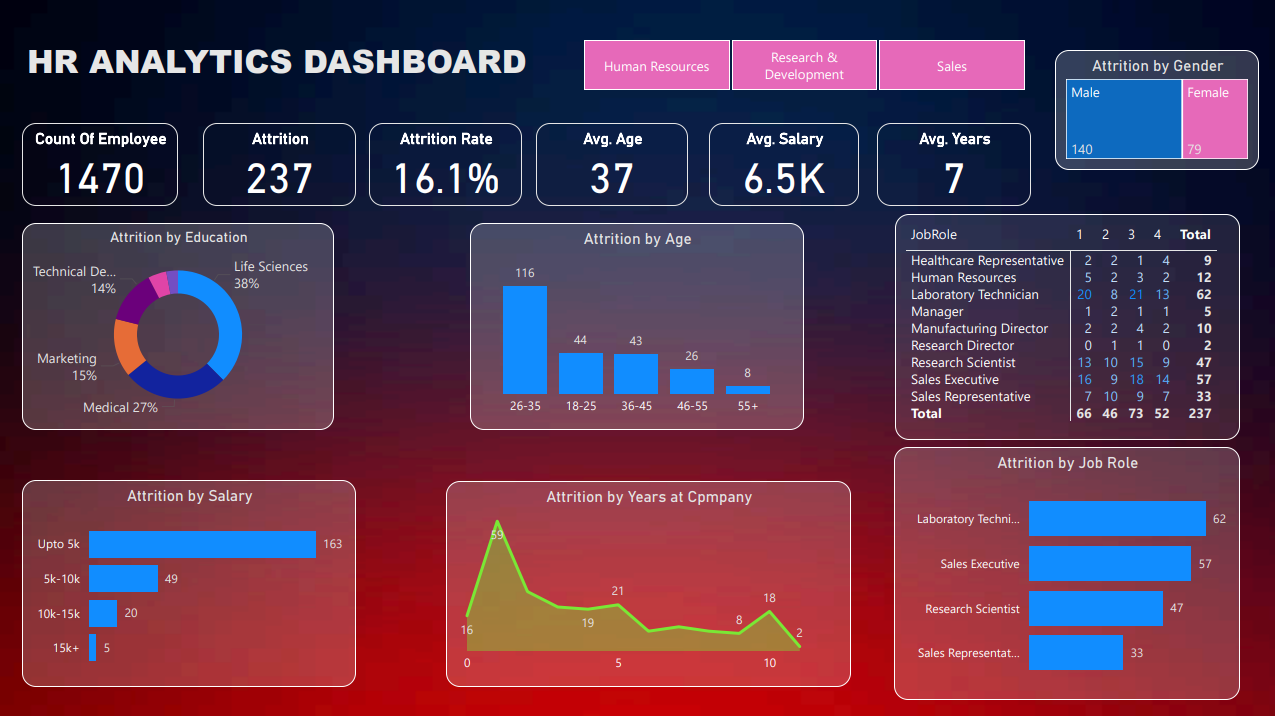

What the dashboard file says about the page in this screenshot:
{"tool":"powerbi","page":{"name":"Page 1","canvas":[1280,720],"ordinal":0},"visuals":[{"type":"card","title":"Count Of Employee","fields":{"Values":["CountNonNull(HR_Analytics.EmpID)"]},"box":[24.8,124.1,156.1,82.5],"z":0},{"type":"card","title":"Attrition","fields":{"Values":["Sum(HR_Analytics.AttritionCount)"]},"box":[205.7,124.1,153.4,82.5],"z":1000},{"type":"card","title":"Avg. Age","fields":{"Values":["Avg(HR_Analytics.Age)"]},"box":[539.1,124.1,151.6,82.5],"z":2000},{"type":"card","title":"Attrition Rate","fields":{"Values":["HR_Analytics.AttritionRate"]},"box":[372.4,124.1,152.5,82.5],"z":3000},{"type":"card","title":"Avg. Salary","fields":{"Values":["Avg(HR_Analytics.MonthlyIncome)"]},"box":[712,124.1,149.9,82.5],"z":4000},{"type":"card","title":"Avg. Years","fields":{"Values":["Avg(HR_Analytics.YearsAtCompany)"]},"box":[879.6,124.1,154.3,82.5],"z":5000},{"type":"donutChart","title":"Attrition by Education","fields":{"Category":["HR_Analytics.EducationField"],"Y":["Sum(HR_Analytics.AttritionCount)"]},"box":[24.8,224.3,312.1,206.6],"z":6000},{"type":"columnChart","title":"Attrition by Age","fields":{"Category":["HR_Analytics.AgeGroup"],"Y":["Sum(HR_Analytics.AttritionCount)"]},"box":[472.6,224.3,334.3,206.6],"z":7000},{"type":"pivotTable","fields":{"Rows":["HR_Analytics.JobRole"],"Columns":["HR_Analytics.JobSatisfaction"],"Values":["Sum(HR_Analytics.AttritionCount)"]},"box":[898.2,214.6,344.9,226.1],"z":8000},{"type":"barChart","title":"Attrition by Salary","fields":{"Category":["HR_Analytics.SalarySlab"],"Y":["Sum(HR_Analytics.AttritionCount)"]},"box":[24.8,481.5,334.3,206.6],"z":9000},{"type":"barChart","title":"Attrition by Job Role","fields":{"Category":["HR_Analytics.JobRole"],"Y":["Sum(HR_Analytics.AttritionCount)"]},"box":[897.3,447.8,345.8,253.6],"z":10000},{"type":"areaChart","title":"Attrition by Years at Cpmpany","fields":{"Category":["HR_Analytics.YearsAtCompany"],"Y":["Sum(HR_Analytics.AttritionCount)"]},"box":[448.7,482.4,405.2,205.7],"z":11000},{"type":"treemap","title":"Attrition by Gender","fields":{"Group":["HR_Analytics.Gender"],"Values":["Sum(HR_Analytics.AttritionCount)"]},"box":[1057.8,50.5,203.9,120.6],"z":12000},{"type":"slicer","fields":{"Values":["HR_Analytics.Department"]},"box":[561.3,33.7,490.3,63.8],"z":13000},{"type":"textbox","box":[24.8,33.7,528.5,70.9],"z":14000}]}

Visuals, with their boxes in screenshot pixels (x1, y1, x2, y2), scaled from the page's 1280x720 canvas onto the 1275x716 screenshot:
"Count Of Employee" card: box=[25, 123, 180, 205]
"Attrition" card: box=[205, 123, 358, 205]
"Avg. Age" card: box=[537, 123, 688, 205]
"Attrition Rate" card: box=[371, 123, 523, 205]
"Avg. Salary" card: box=[709, 123, 859, 205]
"Avg. Years" card: box=[876, 123, 1030, 205]
"Attrition by Education" donutChart: box=[25, 223, 336, 429]
"Attrition by Age" columnChart: box=[471, 223, 804, 429]
pivotTable - HR_Analytics.JobRole x HR_Analytics.JobSatisfaction: box=[895, 213, 1238, 438]
"Attrition by Salary" barChart: box=[25, 479, 358, 684]
"Attrition by Job Role" barChart: box=[894, 445, 1238, 698]
"Attrition by Years at Cpmpany" areaChart: box=[447, 480, 851, 684]
"Attrition by Gender" treemap: box=[1054, 50, 1257, 170]
slicer - HR_Analytics.Department: box=[559, 34, 1047, 97]
textbox: box=[25, 34, 551, 104]
